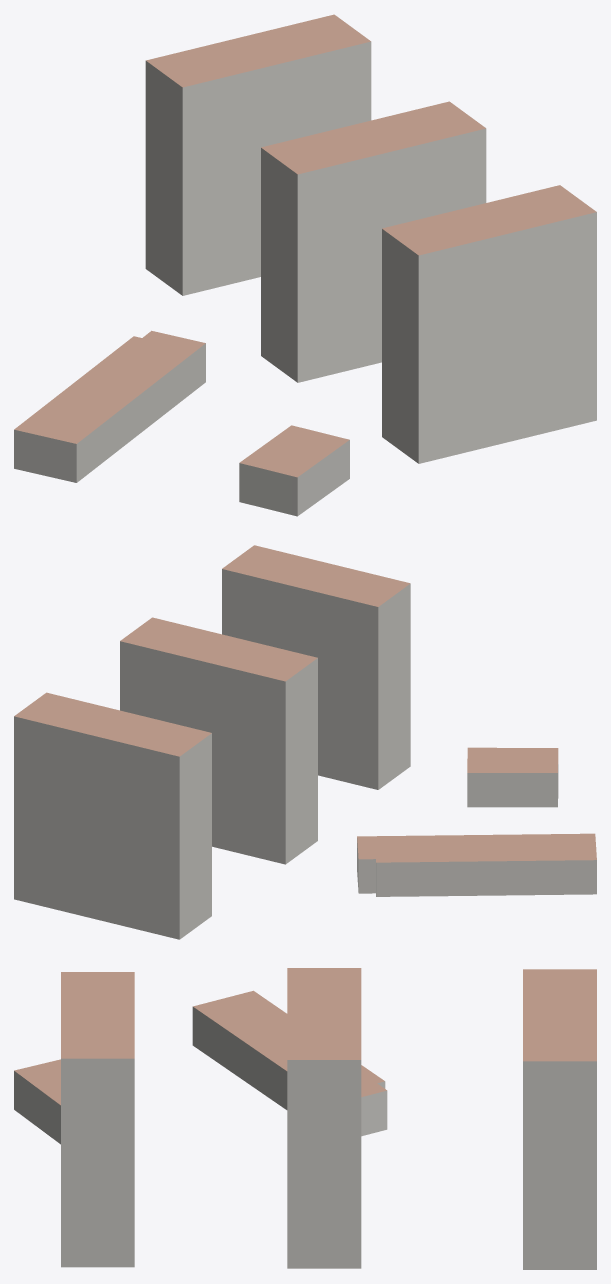
The model's file is gridID_6.dae.
3 views of the same model, one above another, from view 1: azimuth 30°, elevation 25°; view 2: azimuth 150°, elevation 25°; view 3: azimuth 270°, elevation 25° (orthographic). The views are drawn at different scales.
Visible parts, largest first — view 1: model_gridID_6_w389371678_001, model_gridID_6_w389371679, model_gridID_6_w389371677, model_gridID_6_w389371681, model_gridID_6_w390190541; view 2: model_gridID_6_w389371677, model_gridID_6_w389371679, model_gridID_6_w389371678_001, model_gridID_6_w389371681, model_gridID_6_w390190541; view 3: model_gridID_6_w389371679, model_gridID_6_w389371677, model_gridID_6_w389371678_001, model_gridID_6_w389371681, model_gridID_6_w390190541.
Boxes of the visible parts, left/top/right/bottom form: model_gridID_6_w389371678_001: left=382, top=185, right=596, bottom=463; model_gridID_6_w389371679: left=261, top=101, right=486, bottom=382; model_gridID_6_w389371677: left=145, top=14, right=371, bottom=295; model_gridID_6_w389371681: left=14, top=330, right=205, bottom=482; model_gridID_6_w390190541: left=239, top=425, right=349, bottom=516; model_gridID_6_w389371677: left=14, top=692, right=211, bottom=939; model_gridID_6_w389371679: left=120, top=617, right=317, bottom=864; model_gridID_6_w389371678_001: left=222, top=545, right=410, bottom=789; model_gridID_6_w389371681: left=357, top=833, right=596, bottom=896; model_gridID_6_w390190541: left=467, top=747, right=558, bottom=807; model_gridID_6_w389371679: left=287, top=968, right=361, bottom=1268; model_gridID_6_w389371677: left=523, top=969, right=596, bottom=1269; model_gridID_6_w389371678_001: left=61, top=972, right=134, bottom=1267; model_gridID_6_w389371681: left=192, top=990, right=387, bottom=1136; model_gridID_6_w390190541: left=14, top=1059, right=60, bottom=1144.
Size of the model in its own units: 98.83 by 101 by 40.
